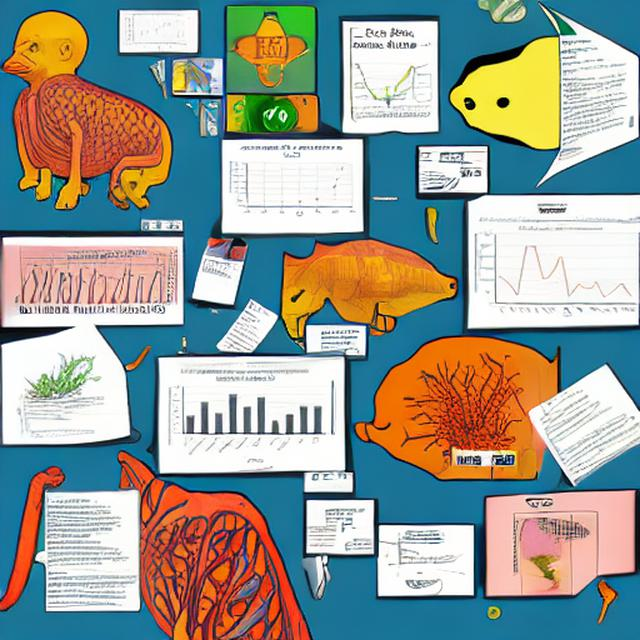Graph: (164, 366, 328, 464), (472, 225, 638, 321), (225, 142, 360, 222), (121, 11, 189, 50), (19, 413, 71, 442)
